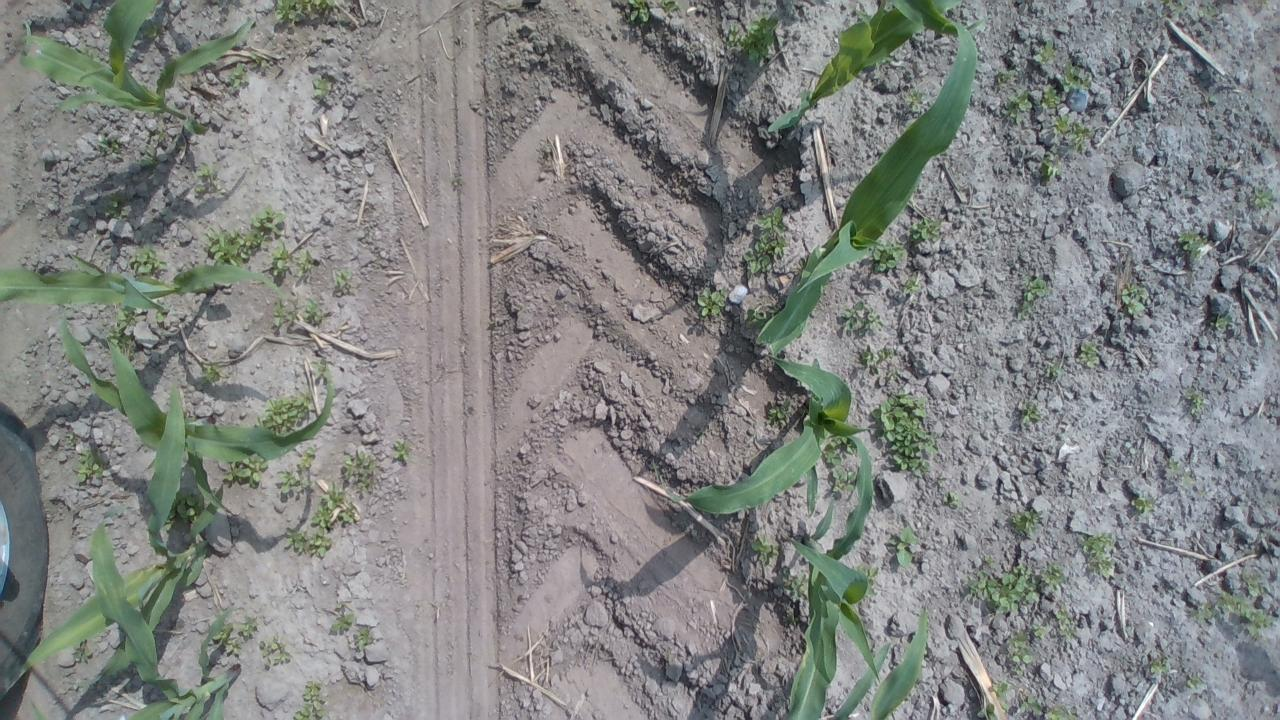Maize: (759, 22, 980, 358), (12, 380, 226, 682), (48, 299, 336, 468), (662, 355, 894, 537), (79, 518, 253, 720), (18, 0, 264, 128), (760, 2, 956, 139), (4, 234, 294, 310), (786, 498, 890, 686), (778, 604, 944, 716)
Weeds: (872, 388, 939, 478), (1198, 578, 1276, 636), (740, 204, 792, 278), (992, 678, 1083, 720), (971, 560, 1030, 614), (724, 12, 786, 63), (252, 386, 318, 432), (60, 435, 108, 494), (200, 224, 260, 269), (820, 434, 864, 492), (338, 444, 385, 498), (279, 446, 323, 502), (834, 298, 886, 340), (1014, 270, 1056, 321), (849, 342, 907, 378), (1176, 224, 1220, 271), (217, 454, 271, 492), (1081, 532, 1122, 582), (274, 0, 344, 29), (1048, 110, 1100, 148), (169, 480, 210, 528), (315, 482, 354, 532), (247, 206, 292, 244), (1056, 58, 1102, 95), (283, 530, 338, 560), (294, 676, 331, 720), (1156, 0, 1223, 24), (108, 304, 140, 354), (1035, 143, 1072, 186), (127, 243, 165, 284), (189, 160, 232, 196), (999, 81, 1031, 128), (692, 280, 731, 318), (1006, 503, 1045, 540), (891, 522, 921, 570), (1006, 625, 1036, 671), (301, 66, 340, 101), (1029, 36, 1064, 74), (1160, 456, 1195, 494), (268, 292, 298, 334), (1032, 556, 1070, 589), (206, 620, 242, 654), (907, 212, 944, 244), (260, 640, 294, 674), (1118, 284, 1151, 319), (192, 357, 228, 389), (1074, 334, 1106, 370), (1013, 393, 1044, 430), (388, 432, 418, 470), (872, 240, 902, 278), (1042, 348, 1072, 386), (1040, 84, 1070, 121), (779, 565, 808, 603), (1144, 649, 1174, 685), (326, 264, 359, 296), (1243, 178, 1272, 214), (1049, 601, 1075, 641), (764, 397, 796, 429), (616, 0, 660, 23), (226, 64, 257, 96), (901, 84, 930, 118), (326, 606, 358, 636), (104, 198, 138, 226), (138, 131, 162, 169), (293, 295, 322, 326), (744, 304, 776, 332), (746, 533, 774, 565), (1184, 384, 1208, 421), (271, 243, 294, 280), (898, 268, 923, 302), (936, 488, 964, 517), (239, 611, 264, 639), (1209, 312, 1234, 338), (347, 627, 375, 649), (298, 249, 318, 276), (97, 136, 127, 154), (1133, 496, 1156, 519), (1179, 672, 1204, 693), (150, 304, 173, 326), (1032, 620, 1050, 646)
